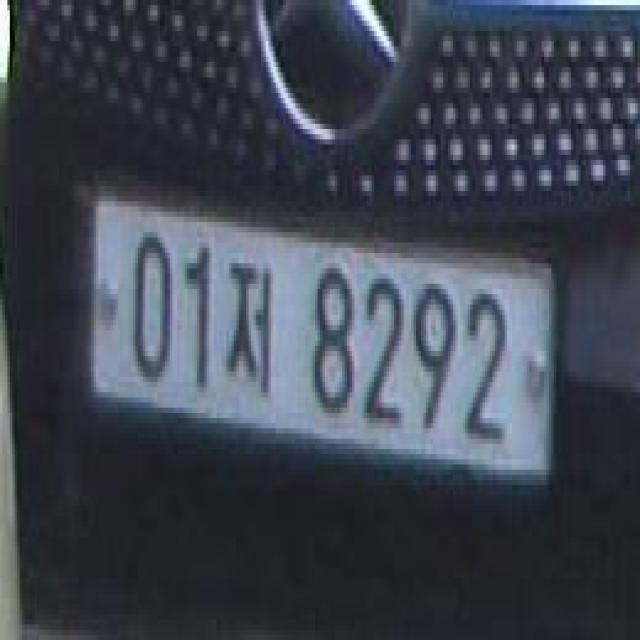illegal_plate: (87, 186, 563, 509)
